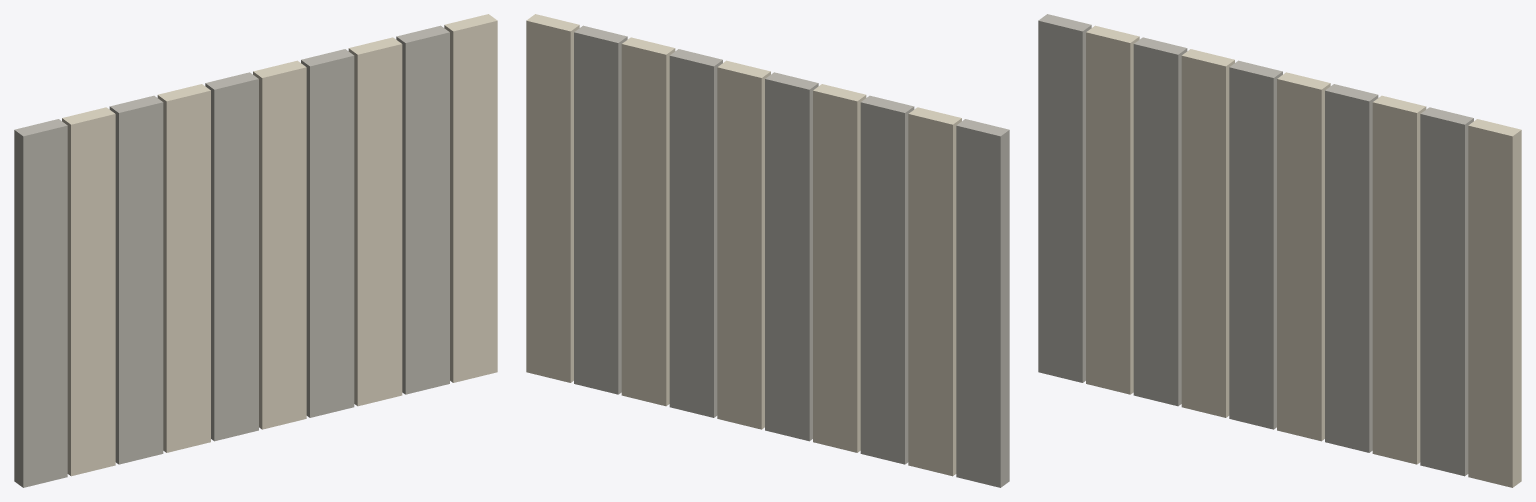
The model's file is curtain.glb.
3 renders of one model, left to right at view 1: azimuth 30°, elevation 25°; view 2: azimuth 150°, elevation 25°; view 3: azimuth 330°, elevation 25°, orthographic.
Parts seen in each view (by area): view 1: REF-L03-R01-curtain-part-1, REF-L03-R01-curtain-part-8, REF-L03-R01-curtain-part-3, REF-L03-R01-curtain-part-7, REF-L03-R01-curtain-part-2, REF-L03-R01-curtain-part-10, REF-L03-R01-curtain-part-4, REF-L03-R01-curtain-part-5, REF-L03-R01-curtain-part-6, REF-L03-R01-curtain-part-9; view 2: REF-L03-R01-curtain-part-1, REF-L03-R01-curtain-part-8, REF-L03-R01-curtain-part-3, REF-L03-R01-curtain-part-7, REF-L03-R01-curtain-part-2, REF-L03-R01-curtain-part-10, REF-L03-R01-curtain-part-4, REF-L03-R01-curtain-part-5, REF-L03-R01-curtain-part-6, REF-L03-R01-curtain-part-9; view 3: REF-L03-R01-curtain-part-10, REF-L03-R01-curtain-part-3, REF-L03-R01-curtain-part-8, REF-L03-R01-curtain-part-4, REF-L03-R01-curtain-part-9, REF-L03-R01-curtain-part-1, REF-L03-R01-curtain-part-2, REF-L03-R01-curtain-part-5, REF-L03-R01-curtain-part-6, REF-L03-R01-curtain-part-7.
Boxes of the visible parts, box(x1,y1,x2,y2) form: REF-L03-R01-curtain-part-1: box(14, 119, 67, 487); REF-L03-R01-curtain-part-8: box(348, 37, 402, 406); REF-L03-R01-curtain-part-3: box(109, 95, 163, 464); REF-L03-R01-curtain-part-7: box(301, 49, 354, 417); REF-L03-R01-curtain-part-2: box(62, 107, 115, 476); REF-L03-R01-curtain-part-10: box(444, 14, 497, 382); REF-L03-R01-curtain-part-4: box(157, 84, 210, 452); REF-L03-R01-curtain-part-5: box(205, 72, 258, 441); REF-L03-R01-curtain-part-6: box(253, 60, 306, 429); REF-L03-R01-curtain-part-9: box(396, 25, 449, 394); REF-L03-R01-curtain-part-1: box(956, 119, 1009, 487); REF-L03-R01-curtain-part-8: box(621, 37, 675, 406); REF-L03-R01-curtain-part-3: box(860, 95, 914, 464); REF-L03-R01-curtain-part-7: box(669, 49, 722, 417); REF-L03-R01-curtain-part-2: box(908, 107, 961, 476); REF-L03-R01-curtain-part-10: box(526, 14, 579, 382); REF-L03-R01-curtain-part-4: box(813, 84, 866, 452); REF-L03-R01-curtain-part-5: box(765, 72, 818, 441); REF-L03-R01-curtain-part-6: box(717, 60, 770, 429); REF-L03-R01-curtain-part-9: box(574, 25, 627, 394); REF-L03-R01-curtain-part-10: box(1468, 119, 1521, 487); REF-L03-R01-curtain-part-3: box(1133, 37, 1187, 406); REF-L03-R01-curtain-part-8: box(1372, 95, 1426, 464); REF-L03-R01-curtain-part-4: box(1181, 49, 1234, 417); REF-L03-R01-curtain-part-9: box(1420, 107, 1473, 476); REF-L03-R01-curtain-part-1: box(1038, 14, 1091, 382); REF-L03-R01-curtain-part-2: box(1086, 25, 1139, 394); REF-L03-R01-curtain-part-5: box(1229, 60, 1282, 429); REF-L03-R01-curtain-part-6: box(1277, 72, 1330, 441); REF-L03-R01-curtain-part-7: box(1325, 84, 1378, 452).
Bounding box in the file's own units: 0.9036 × 0.64 × 0.03.
